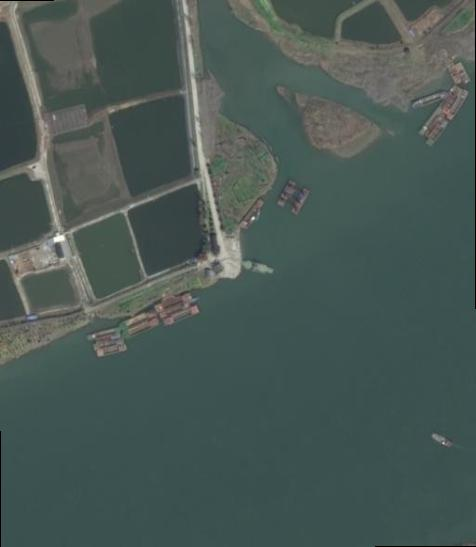ship: (237, 196, 268, 234), (417, 104, 448, 140), (446, 86, 476, 120), (424, 117, 452, 151), (273, 177, 300, 211), (288, 186, 315, 217), (163, 306, 201, 327), (440, 81, 463, 115), (160, 299, 198, 319), (156, 293, 193, 313), (125, 318, 162, 338), (121, 309, 156, 330), (413, 91, 448, 110), (453, 57, 474, 86), (243, 259, 275, 278), (87, 327, 122, 341), (94, 336, 124, 350), (431, 431, 454, 448), (98, 345, 128, 357), (449, 66, 461, 83)
